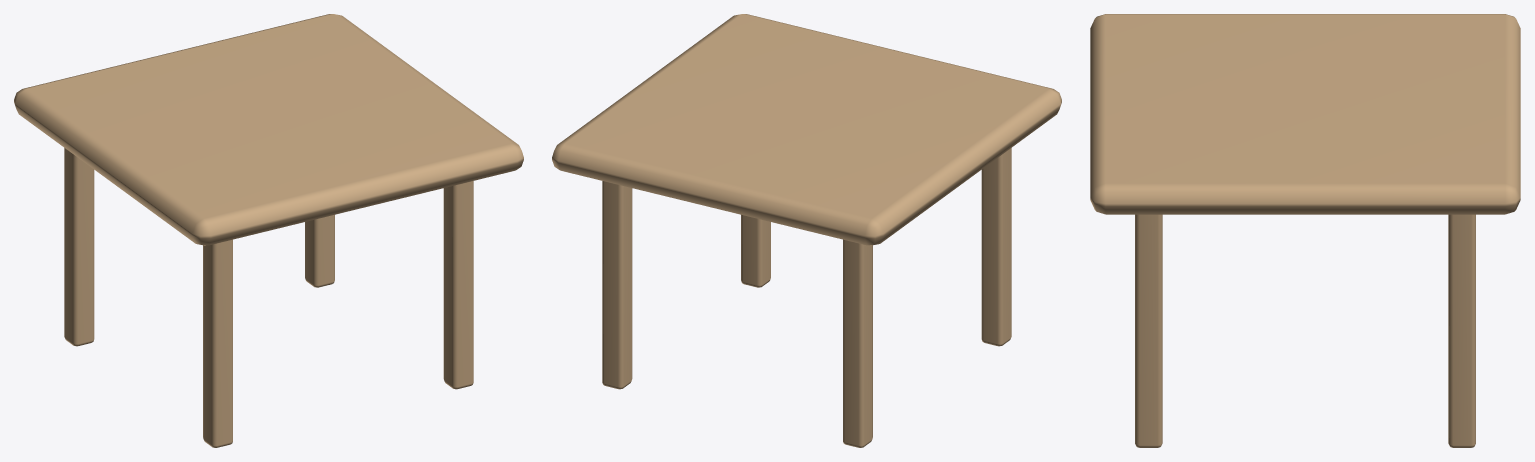
The model's file is ikea_lisabo_coffee_90353064.glb.
The picture shows the model from 3 angles, left to right: view 1: azimuth 30°, elevation 25°; view 2: azimuth 150°, elevation 25°; view 3: azimuth 270°, elevation 25°; orthographic projection. The views are drawn at different scales.
Parts seen in each view (by area): view 1: table top, leg.002, leg, leg.001, leg.003; view 2: table top, leg.003, leg.001, leg, leg.002; view 3: table top, leg.002, leg.003.
Boxes of the visible parts, box(x1,y1,x2,y2) form: table top: box(14, 14, 523, 245); leg.002: box(443, 181, 473, 389); leg: box(203, 239, 232, 447); leg.001: box(64, 148, 94, 346); leg.003: box(305, 214, 334, 287); table top: box(552, 14, 1061, 245); leg.003: box(602, 181, 632, 389); leg.001: box(843, 239, 872, 447); leg: box(981, 148, 1011, 346); leg.002: box(741, 214, 770, 287); table top: box(1090, 14, 1520, 214); leg.002: box(1135, 214, 1162, 447); leg.003: box(1448, 214, 1475, 447).
Bounding box in the file's own units: 0.7 × 0.5005 × 0.7.
